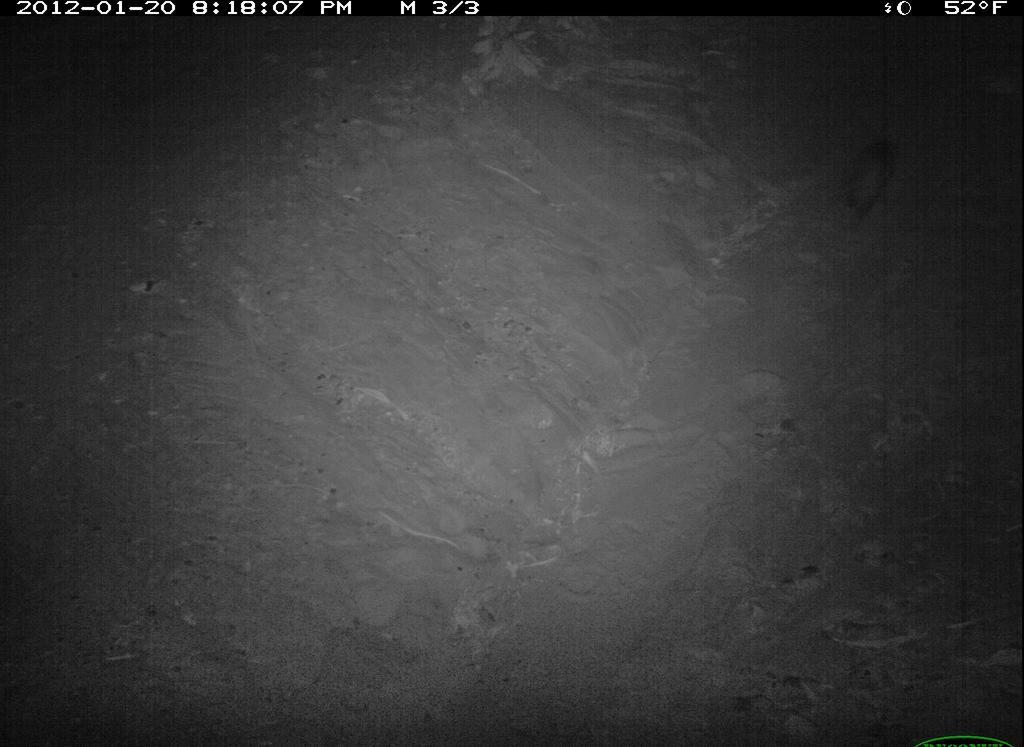opossum: (830, 122, 923, 232)
